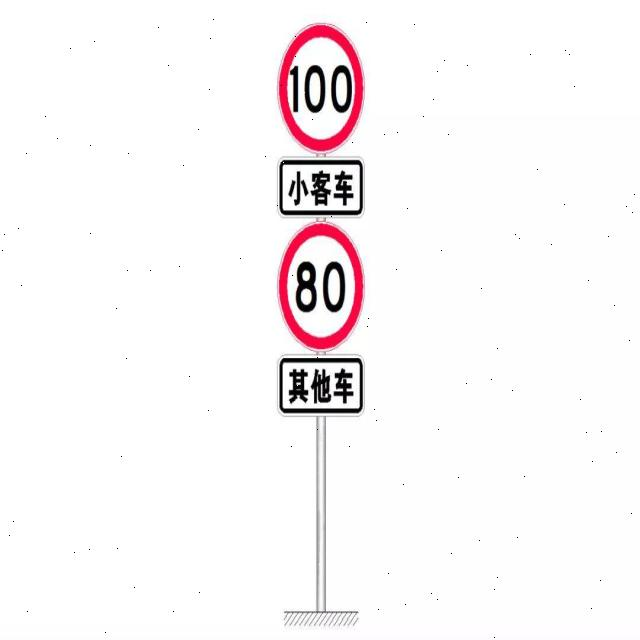speed limit 100: (276, 22, 365, 156)
speed limit 80: (276, 219, 365, 353)
